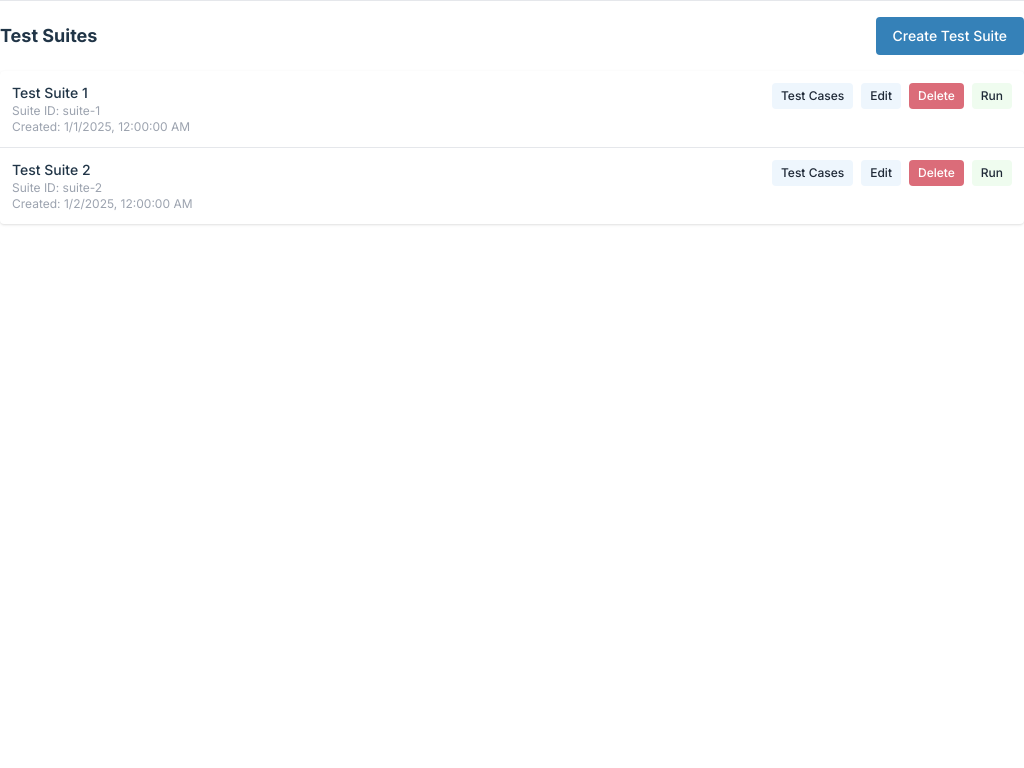
it: TestSuitePanel › updates test suite successfully
This screenshot has width=1024, height=768.
Expected: the text "Test Suite 1" is shown, x1=12 y1=84 x2=88 y2=101
# Open edit modal
Click the button "Edit" in the row of "Test Suite 1": {"x": 881, "y": 96} x1=861 y1=83 x2=901 y2=109
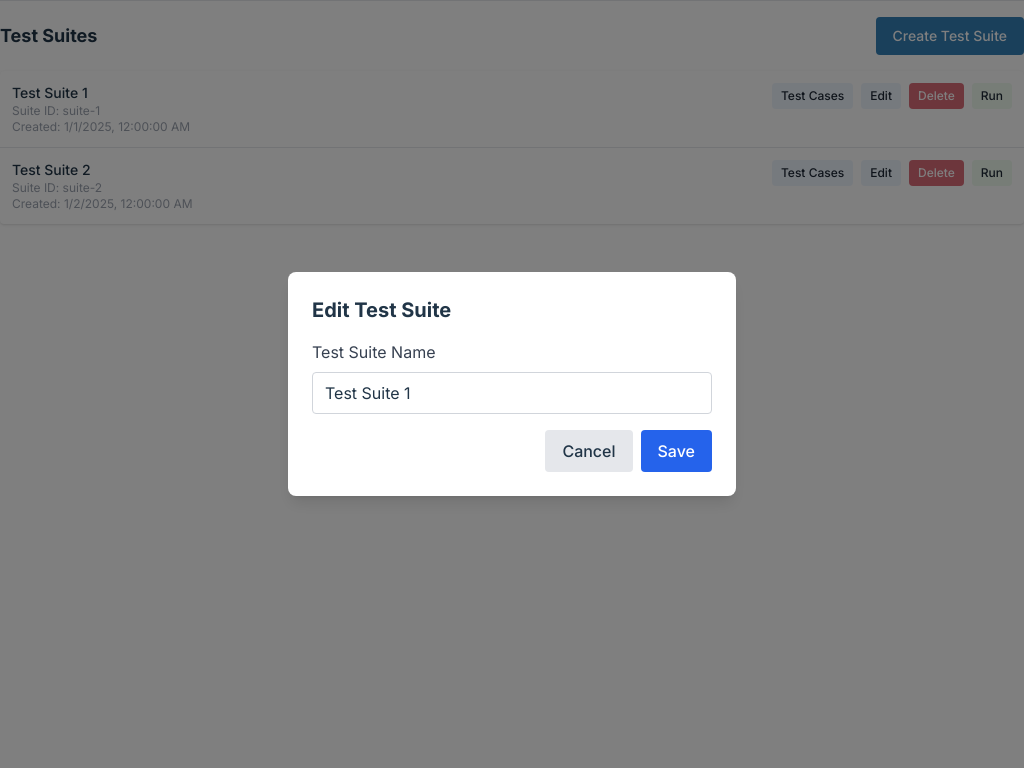
# Update the form
Replace the text in the field labelled "Test Suite Name" with "Updated Test Suite": {"x": 512, "y": 393} x1=312 y1=372 x2=712 y2=414
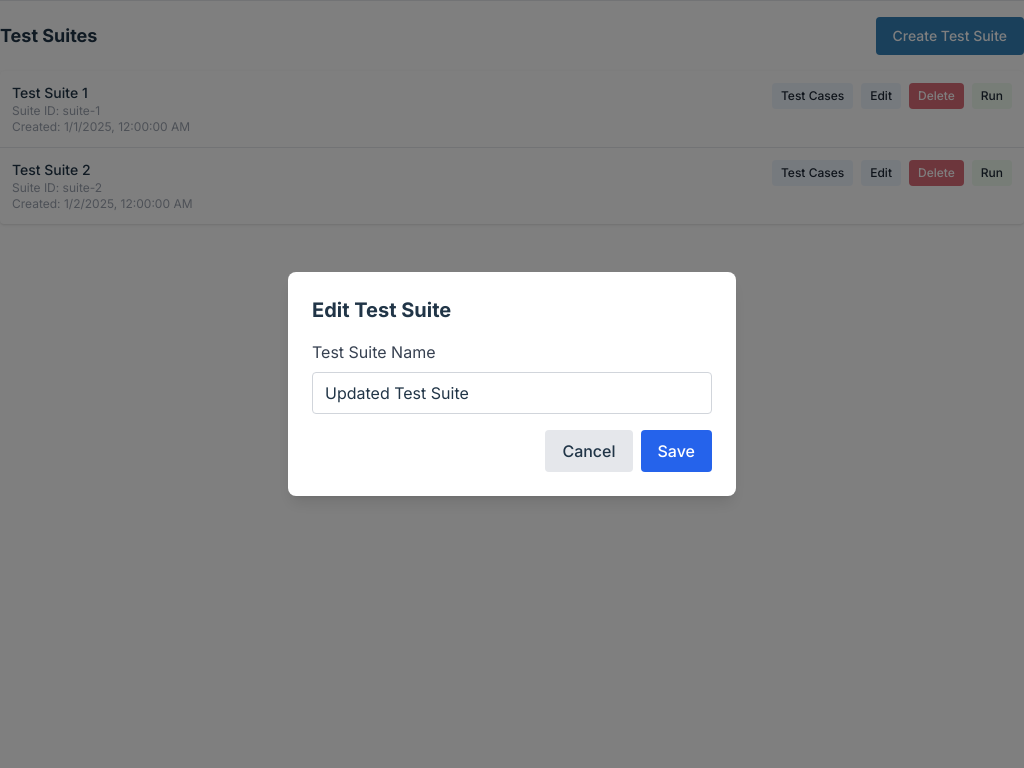
# Submit the form
Click the button "Save": {"x": 676, "y": 451} x1=640 y1=430 x2=712 y2=472
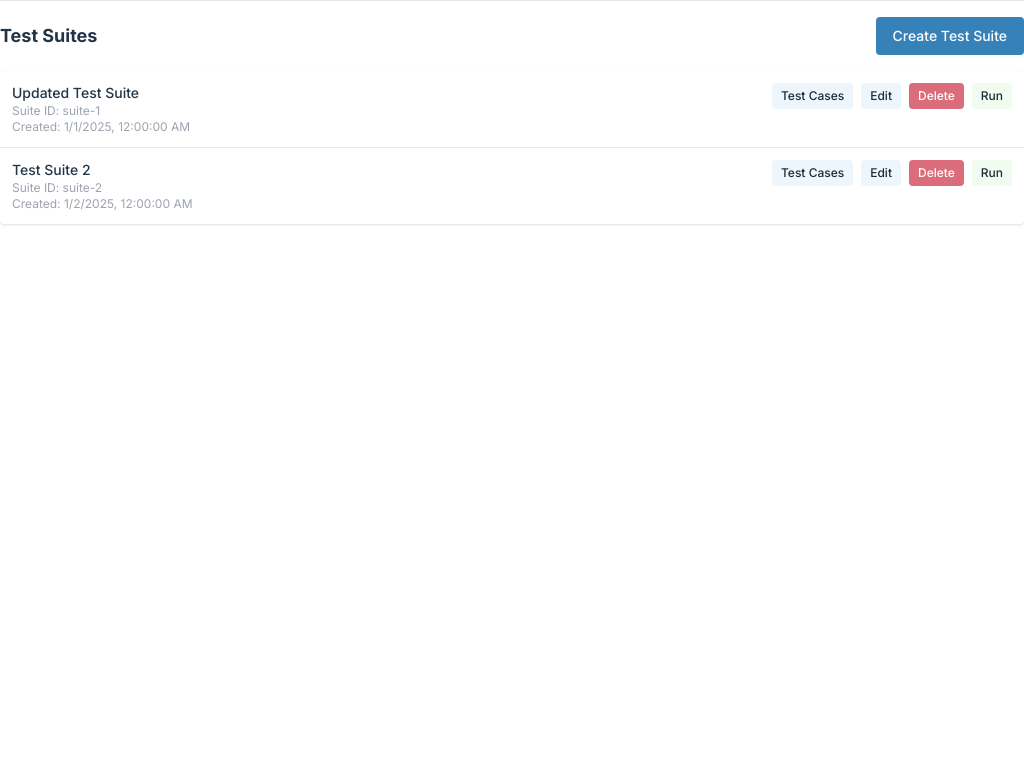
Now the text "Updated Test Suite" is shown, box x1=12 y1=84 x2=139 y2=101
Now the text "Test Suite 1" is gone
